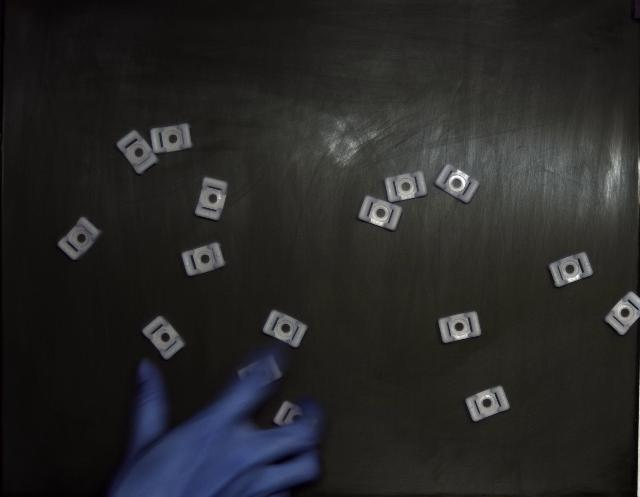first_side: (142, 316, 186, 360), (116, 130, 159, 175), (58, 218, 102, 260), (435, 164, 480, 204), (262, 310, 308, 348), (465, 386, 510, 422), (181, 242, 226, 276), (359, 196, 402, 231), (549, 253, 592, 288), (195, 178, 228, 220), (439, 311, 481, 344), (385, 171, 428, 202), (150, 124, 192, 154)
